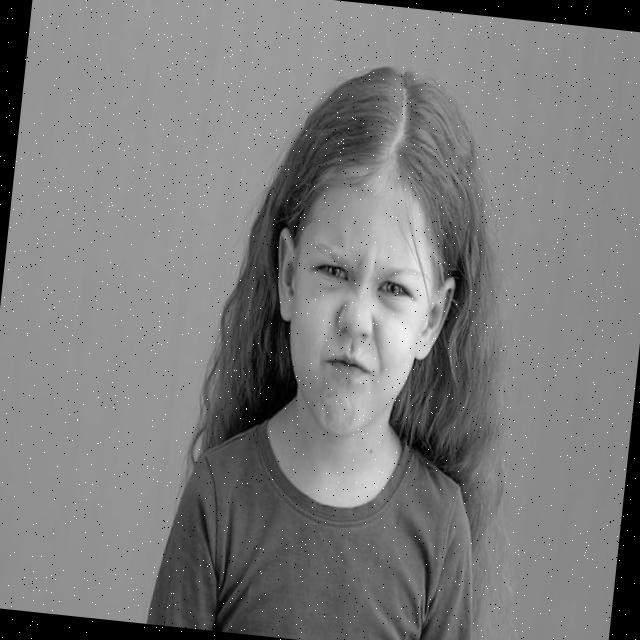Angry: (277, 173, 443, 444)
